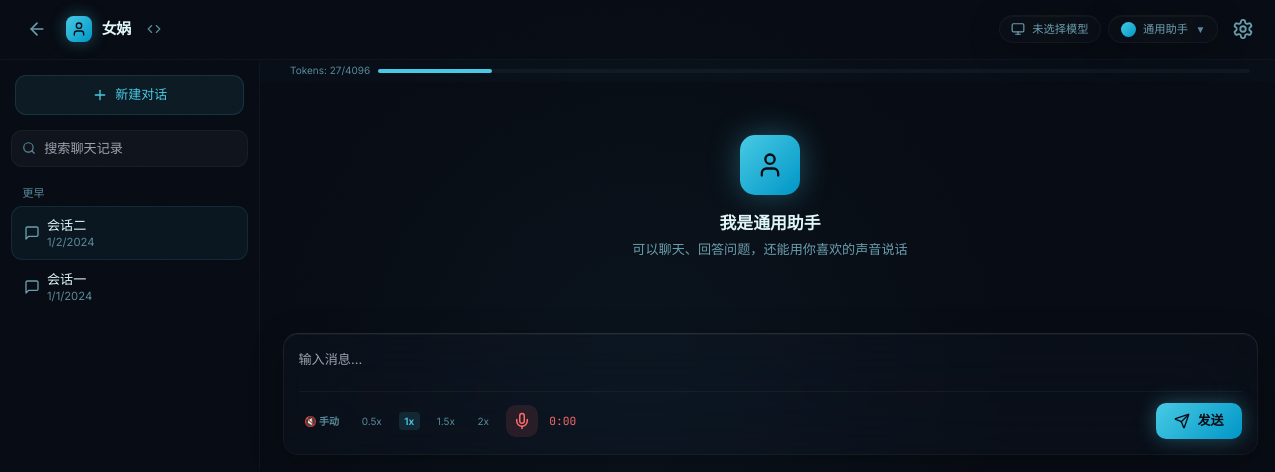
Test case: ChatPage Voice_Loop no regression › fills the input with the transcript after a successful ASR (Req 7.3)
Click the button with class "lucide-mic".
click(522, 421)  # box left=506, top=405, right=538, bottom=437
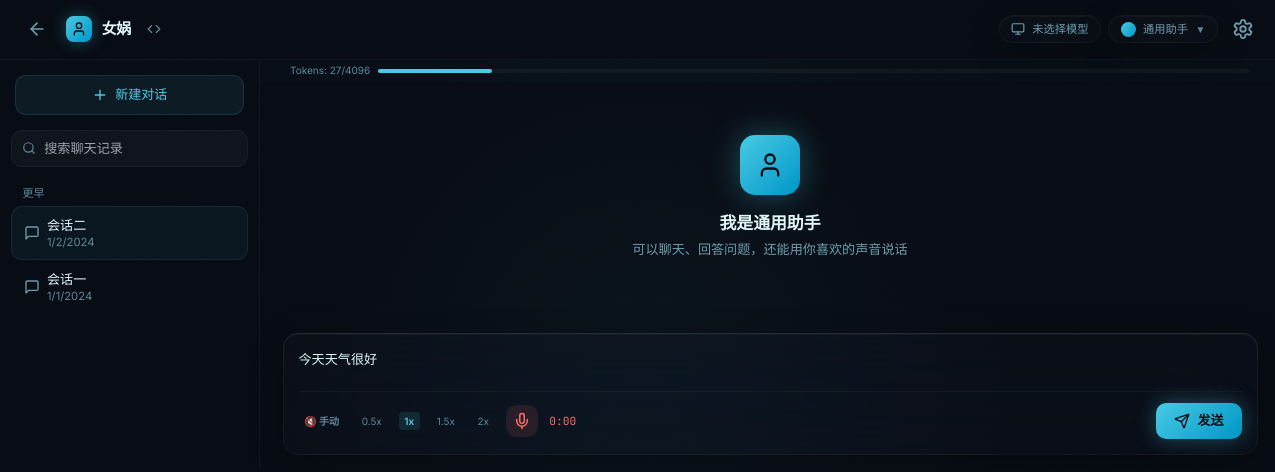
Expected: the text box with placeholder "输入消息..." holds "今天天气很好", left=298, top=349, right=1242, bottom=373
